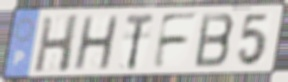5: (235, 12, 273, 67)
B: (192, 11, 237, 69)
F: (150, 11, 201, 71)
H: (32, 13, 81, 74), (71, 14, 121, 72)
T: (124, 12, 157, 72)
